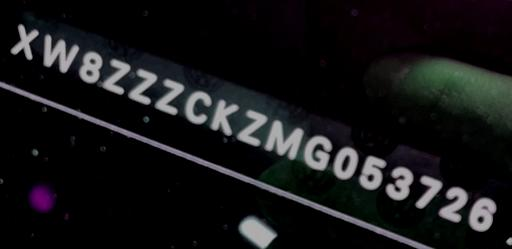letter: (262, 119, 306, 162), (42, 32, 78, 76), (234, 108, 270, 147), (125, 66, 157, 107), (152, 76, 184, 116), (8, 22, 40, 62), (208, 97, 240, 136), (302, 133, 334, 172), (101, 56, 131, 97), (438, 185, 470, 223), (412, 174, 444, 211), (357, 154, 387, 192), (183, 89, 213, 126), (384, 165, 414, 202), (467, 196, 497, 233), (330, 145, 360, 181), (76, 48, 102, 86)
